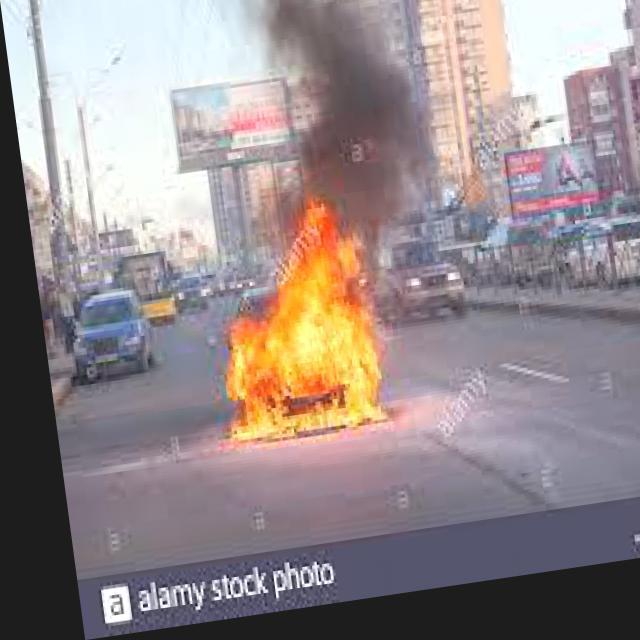Fire: (191, 198, 386, 470)
